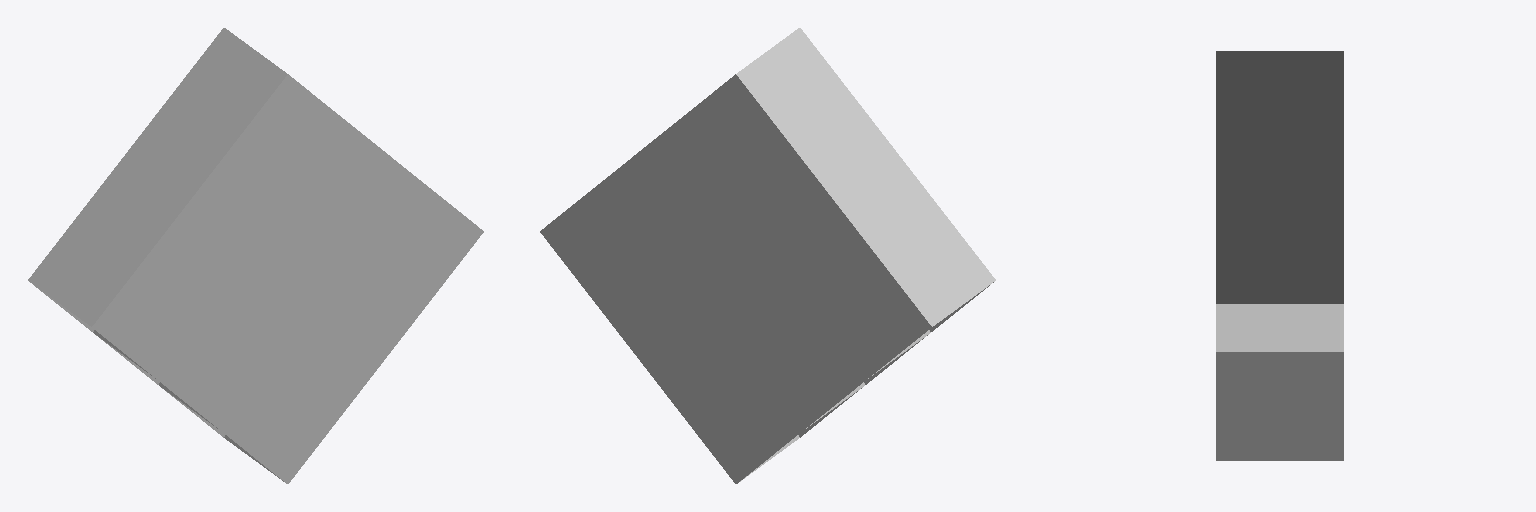
Rendered from 3d_Ashenvale - Hellscream Fire 2.wlw.obj.
3 views of the same model, side by side, from view 1: azimuth 30°, elevation 25°; view 2: azimuth 150°, elevation 25°; view 3: azimuth 270°, elevation 25° (orthographic).
Bounding box in the file's own units: 35.36 × 35.36 × 10.